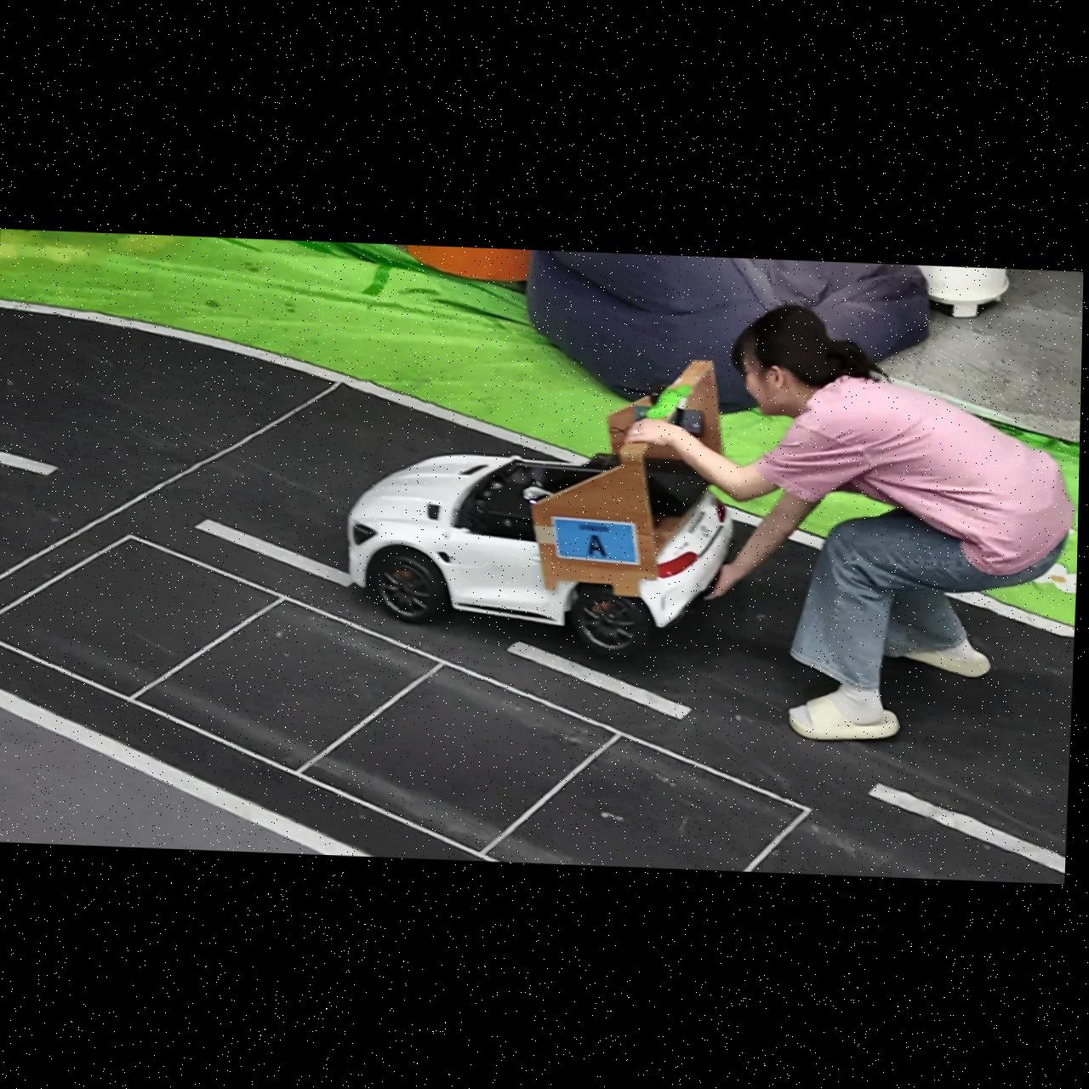broken_line: (869, 783, 1065, 874), (508, 642, 691, 719), (196, 519, 354, 586), (0, 451, 57, 475)
